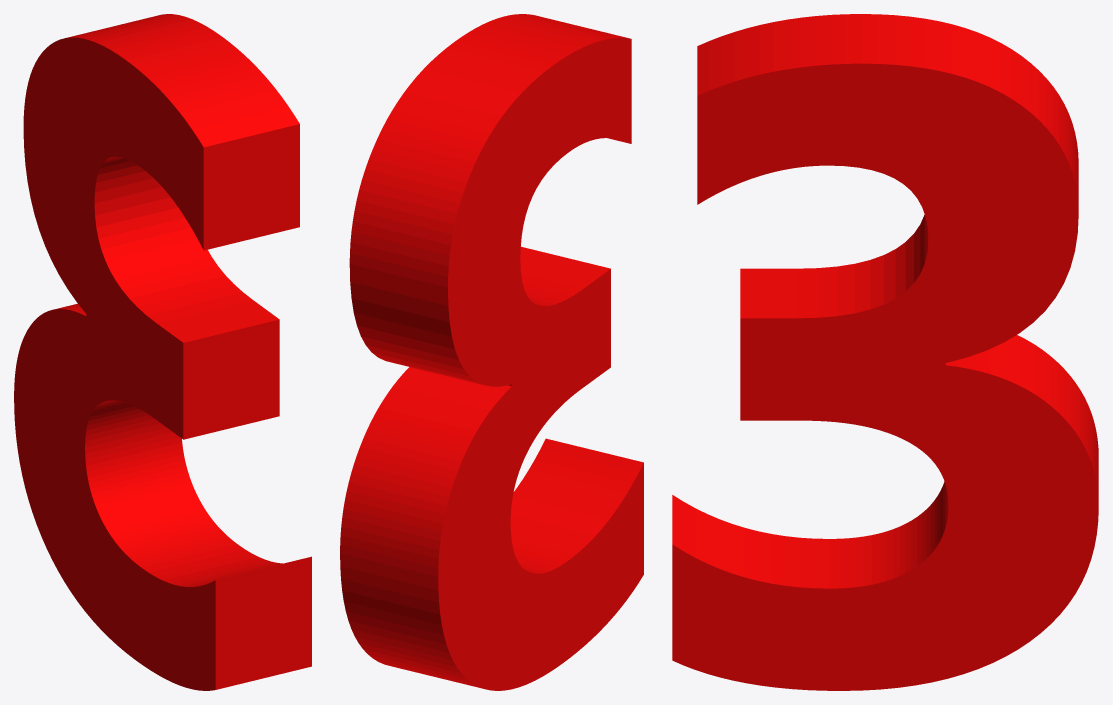
The model's file is SevenEleven_3.fbx.
3 renders of one model, left to right at view 1: azimuth 30°, elevation 25°; view 2: azimuth 150°, elevation 25°; view 3: azimuth 270°, elevation 25°, orthographic. The views are drawn at different scales.
Parts seen in each view (by area): view 1: 3; view 2: 3; view 3: 3.
Part boxes in pixels (<box>): 3: <box>14,14,311,690</box>; 3: <box>340,14,643,690</box>; 3: <box>672,14,1098,690</box>.
Size of the model in its own units: 44 by 259 by 160.
